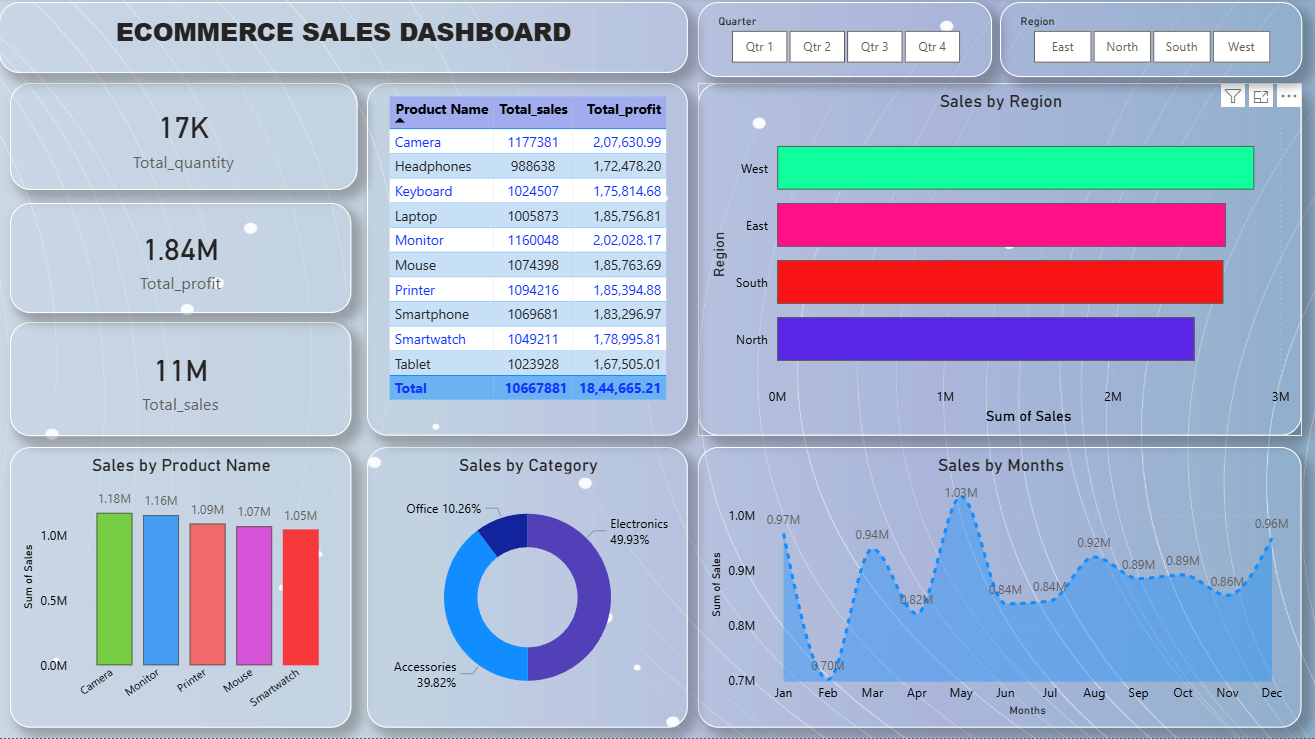

Layout of this report page (visuals, bound fields, positions):
{"tool":"powerbi","page":{"name":"Page 1","canvas":[1280,720],"ordinal":0},"visuals":[{"type":"card","fields":{"Values":["ecom_clean_data.Total_quantity"]},"box":[10.7,82.7,337.5,104.1],"z":0},{"type":"card","fields":{"Values":["ecom_clean_data.Total_sales"]},"box":[10.7,315.1,331.7,110.9],"z":1000},{"type":"clusteredBarChart","title":"Sales by Region","fields":{"Y":["Sum(ecom_clean_data.Sales)"],"Category":["ecom_clean_data.Region"]},"box":[679.9,82.7,587.5,343.3],"z":2000},{"type":"lineChart","title":"Sales by Months","fields":{"Y":["Sum(ecom_clean_data.Sales)"],"Category":["ecom_clean_data.Months"]},"box":[679.9,436.7,587.5,273.3],"z":3000},{"type":"donutChart","title":"Sales by Category","fields":{"Category":["ecom_clean_data.Category"],"Y":["Sum(ecom_clean_data.Sales)"]},"box":[357.9,436.7,312.2,273.3],"z":4000},{"type":"tableEx","fields":{"Values":["ecom_clean_data.Product Name","ecom_clean_data.Total_sales","ecom_clean_data.Total_profit"]},"box":[357.9,82.7,312.2,343.3],"z":5000},{"type":"slicer","fields":{"Values":["ecom_clean_data.Order Date.Variation.Date Hierarchy.Quarter"]},"box":[679.9,3.9,286,72.9],"z":6000},{"type":"clusteredColumnChart","title":"Sales by Product Name","fields":{"Category":["ecom_clean_data.Product Name"],"Y":["Sum(ecom_clean_data.Sales)"]},"box":[10.7,436.7,331.7,273.3],"z":7000},{"type":"textbox","box":[10.7,3.9,659.5,69.1],"z":8000},{"type":"card","fields":{"Values":["ecom_clean_data.Total_profit"]},"box":[10.7,199.4,331.7,107],"z":9000},{"type":"slicer","fields":{"Values":["ecom_clean_data.Region"]},"box":[973.6,3.9,293.7,72.9],"z":10000}]}

Visuals, with their boxes in screenshot pixels (x1, y1, x2, y2), scaled from the page's 1280x720 canvas onto the 1315x739 screenshot:
card - ecom_clean_data.Total_quantity: rect(11, 85, 358, 192)
card - ecom_clean_data.Total_sales: rect(11, 323, 352, 437)
"Sales by Region" clusteredBarChart: rect(698, 85, 1302, 437)
"Sales by Months" lineChart: rect(698, 448, 1302, 729)
"Sales by Category" donutChart: rect(368, 448, 688, 729)
tableEx - ecom_clean_data.Product Name x ecom_clean_data.Total_sales: rect(368, 85, 688, 437)
slicer - ecom_clean_data.Order Date.Variation.Date Hierarchy.Quarter: rect(698, 4, 992, 79)
"Sales by Product Name" clusteredColumnChart: rect(11, 448, 352, 729)
textbox: rect(11, 4, 689, 75)
card - ecom_clean_data.Total_profit: rect(11, 205, 352, 314)
slicer - ecom_clean_data.Region: rect(1000, 4, 1302, 79)
